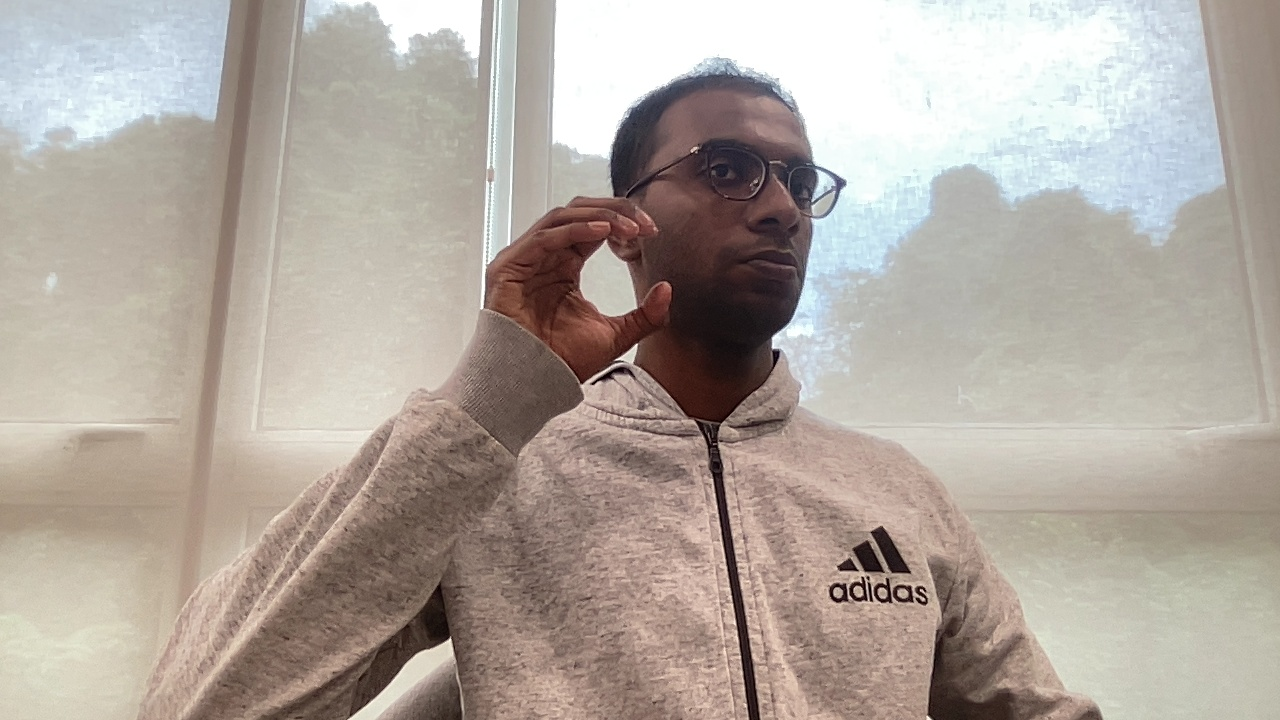drink: (476, 188, 676, 394)
